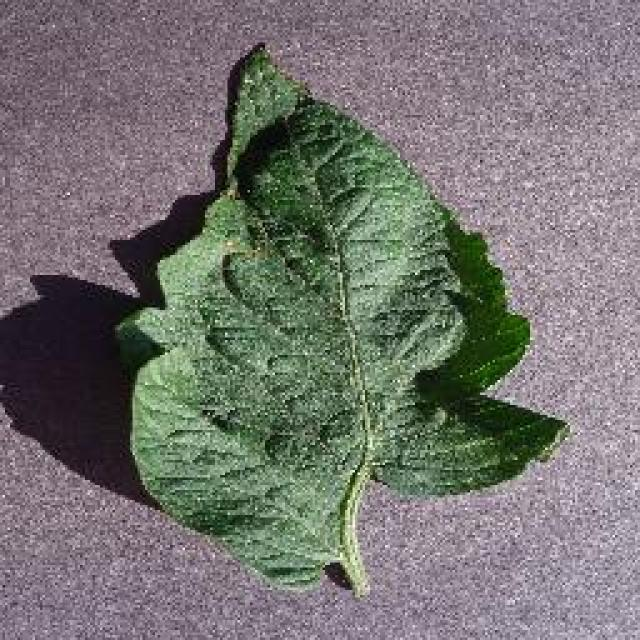Tomato___Target_Spot: (120, 50, 562, 592)
